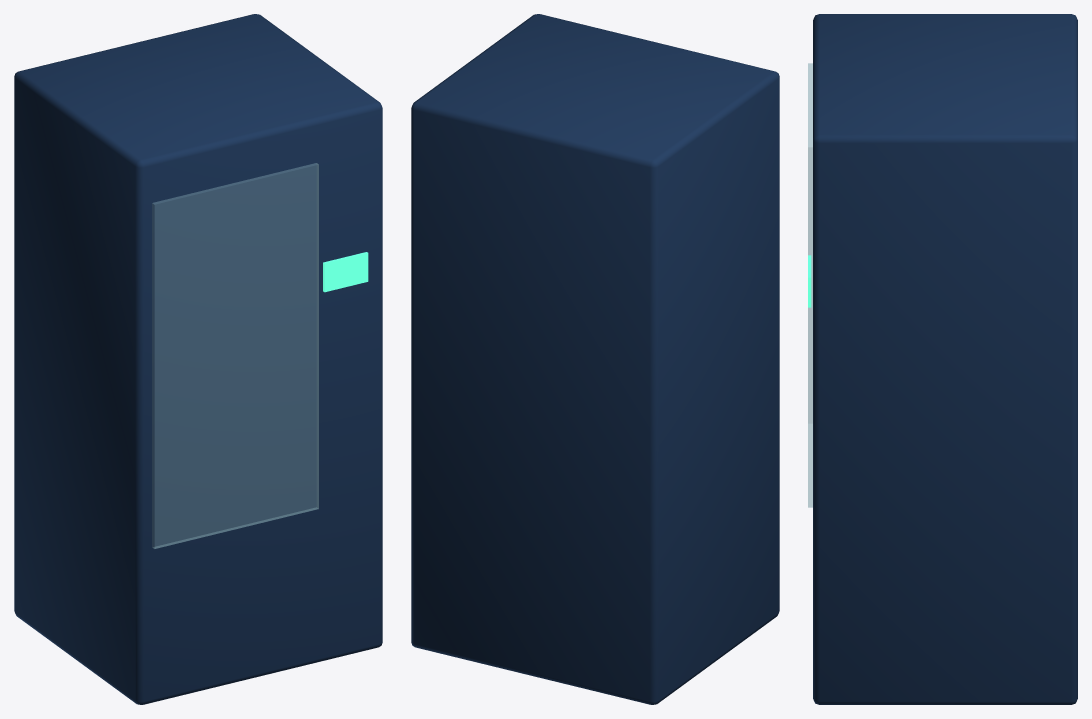
The model's file is vending.gltf.
3 views of the same model, side by side, from view 1: azimuth 30°, elevation 25°; view 2: azimuth 150°, elevation 25°; view 3: azimuth 270°, elevation 25° (orthographic). The views are drawn at different scales.
Visible parts, largest first — view 1: vending_mesh, EMIT_screen; view 2: vending_mesh; view 3: vending_mesh.
Part boxes in pixels (x1,y1,x2,y2): vending_mesh: (14, 14, 382, 704); EMIT_screen: (323, 252, 368, 292); vending_mesh: (411, 14, 779, 704); vending_mesh: (808, 14, 1077, 704).
Size of the model in its own units: 0.9 by 1.9 by 0.815.
